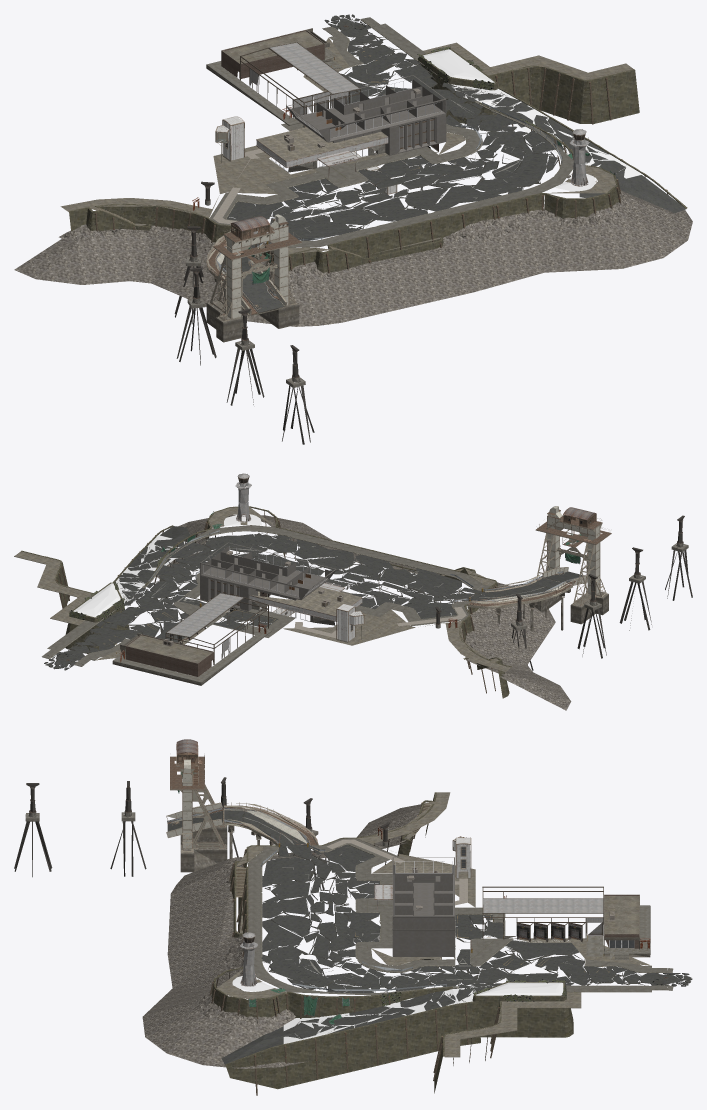
Rendered from ferry_terminal_1-map.glb.
3 views of the same model, one above another, from view 1: azimuth 30°, elevation 25°; view 2: azimuth 150°, elevation 25°; view 3: azimuth 270°, elevation 25° (orthographic). The views are drawn at different scales.
Parts seen in each view (by area): view 1: ferry_terminal_dyke_a_hq, ferry_road_bridge_LOD0, ferry_terminal_wall_b_LOD0, ferry_terminal_exterior_LOD0, ferry_terminal_grounds_a, road_9x15_end_LOD0, logistics_warehouse_LOD0, ferry_sky_bridge_support_sea, lighthouse_small_LOD0, ferry_terminal_terrain_base_b, ferry_terminal_wall_a_LOD0, ferry_sky_bridge_tower_LOD0; view 2: ferry_road_bridge_LOD0, ferry_terminal_exterior_LOD0, ferry_terminal_dyke_a_hq, ferry_terminal_grounds_a, road_9x15_end_LOD0, logistics_warehouse_LOD0, ferry_terminal_wall_b_LOD0, ferry_sky_bridge_support_sea, lighthouse_small_LOD0, ferry_terminal_terrain_base_b, ferry_sky_bridge_tower_LOD0, ferry_terminal_wall_a_LOD0 (+3 smaller); view 3: ferry_road_bridge_LOD0, ferry_terminal_wall_b_LOD0, ferry_terminal_dyke_a_hq, road_9x15_end_LOD0, ferry_terminal_grounds_a, ferry_terminal_exterior_LOD0, logistics_warehouse_LOD0, ferry_terminal_terrain_base_b, lighthouse_small_LOD0, ferry_terminal_wall_a_LOD0, ferry_sky_bridge_support_sea, road_safety_barrier_bend_c (+2 smaller).
Boxes of the visible parts, <box> form: ferry_terminal_dyke_a_hq: <box>14,175,692,326</box>; ferry_road_bridge_LOD0: <box>206,14,686,321</box>; ferry_terminal_wall_b_LOD0: <box>68,48,687,272</box>; ferry_terminal_exterior_LOD0: <box>186,75,446,387</box>; ferry_terminal_grounds_a: <box>60,31,633,254</box>; road_9x15_end_LOD0: <box>209,17,573,247</box>; logistics_warehouse_LOD0: <box>206,28,596,342</box>; ferry_sky_bridge_support_sea: <box>174,181,314,444</box>; lighthouse_small_LOD0: <box>250,42,588,186</box>; ferry_terminal_terrain_base_b: <box>423,49,642,191</box>; ferry_terminal_wall_a_LOD0: <box>94,68,668,273</box>; ferry_sky_bridge_tower_LOD0: <box>215,116,396,193</box>; ferry_road_bridge_LOD0: <box>44,506,611,670</box>; ferry_terminal_exterior_LOD0: <box>200,542,688,630</box>; ferry_terminal_dyke_a_hq: <box>157,515,571,710</box>; ferry_terminal_grounds_a: <box>14,507,511,671</box>; road_9x15_end_LOD0: <box>42,525,489,666</box>; logistics_warehouse_LOD0: <box>112,557,608,685</box>; ferry_terminal_wall_b_LOD0: <box>21,506,511,698</box>; ferry_sky_bridge_support_sea: <box>435,515,692,670</box>; lighthouse_small_LOD0: <box>167,473,251,658</box>; ferry_terminal_terrain_base_b: <box>73,514,261,617</box>; ferry_sky_bridge_tower_LOD0: <box>273,599,363,641</box>; ferry_terminal_wall_a_LOD0: <box>47,506,496,693</box>; ferry_road_bridge_LOD0: <box>166,744,692,1065</box>; ferry_terminal_wall_b_LOD0: <box>211,792,573,1093</box>; ferry_terminal_dyke_a_hq: <box>142,804,420,1068</box>; road_9x15_end_LOD0: <box>248,838,673,1001</box>; ferry_terminal_grounds_a: <box>217,792,651,1057</box>; ferry_terminal_exterior_LOD0: <box>25,807,634,956</box>; logistics_warehouse_LOD0: <box>180,823,650,1012</box>; ferry_terminal_terrain_base_b: <box>232,976,563,1043</box>; lighthouse_small_LOD0: <box>240,898,603,986</box>; ferry_terminal_wall_a_LOD0: <box>209,802,499,1095</box>; ferry_sky_bridge_support_sea: <box>14,777,390,890</box>; road_safety_barrier_bend_c: <box>167,807,446,993</box>.
Size of the model in its own units: 200 by 45.08 by 196.
60 materials, 59 textured.
